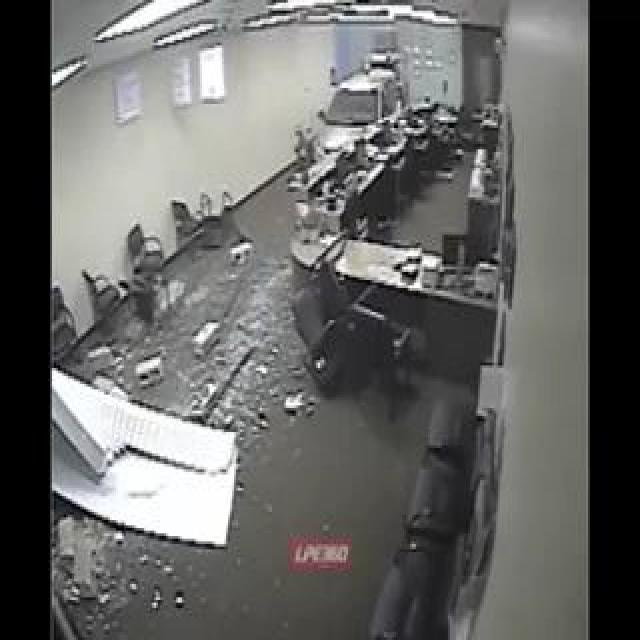thief: (314, 52, 348, 111)
